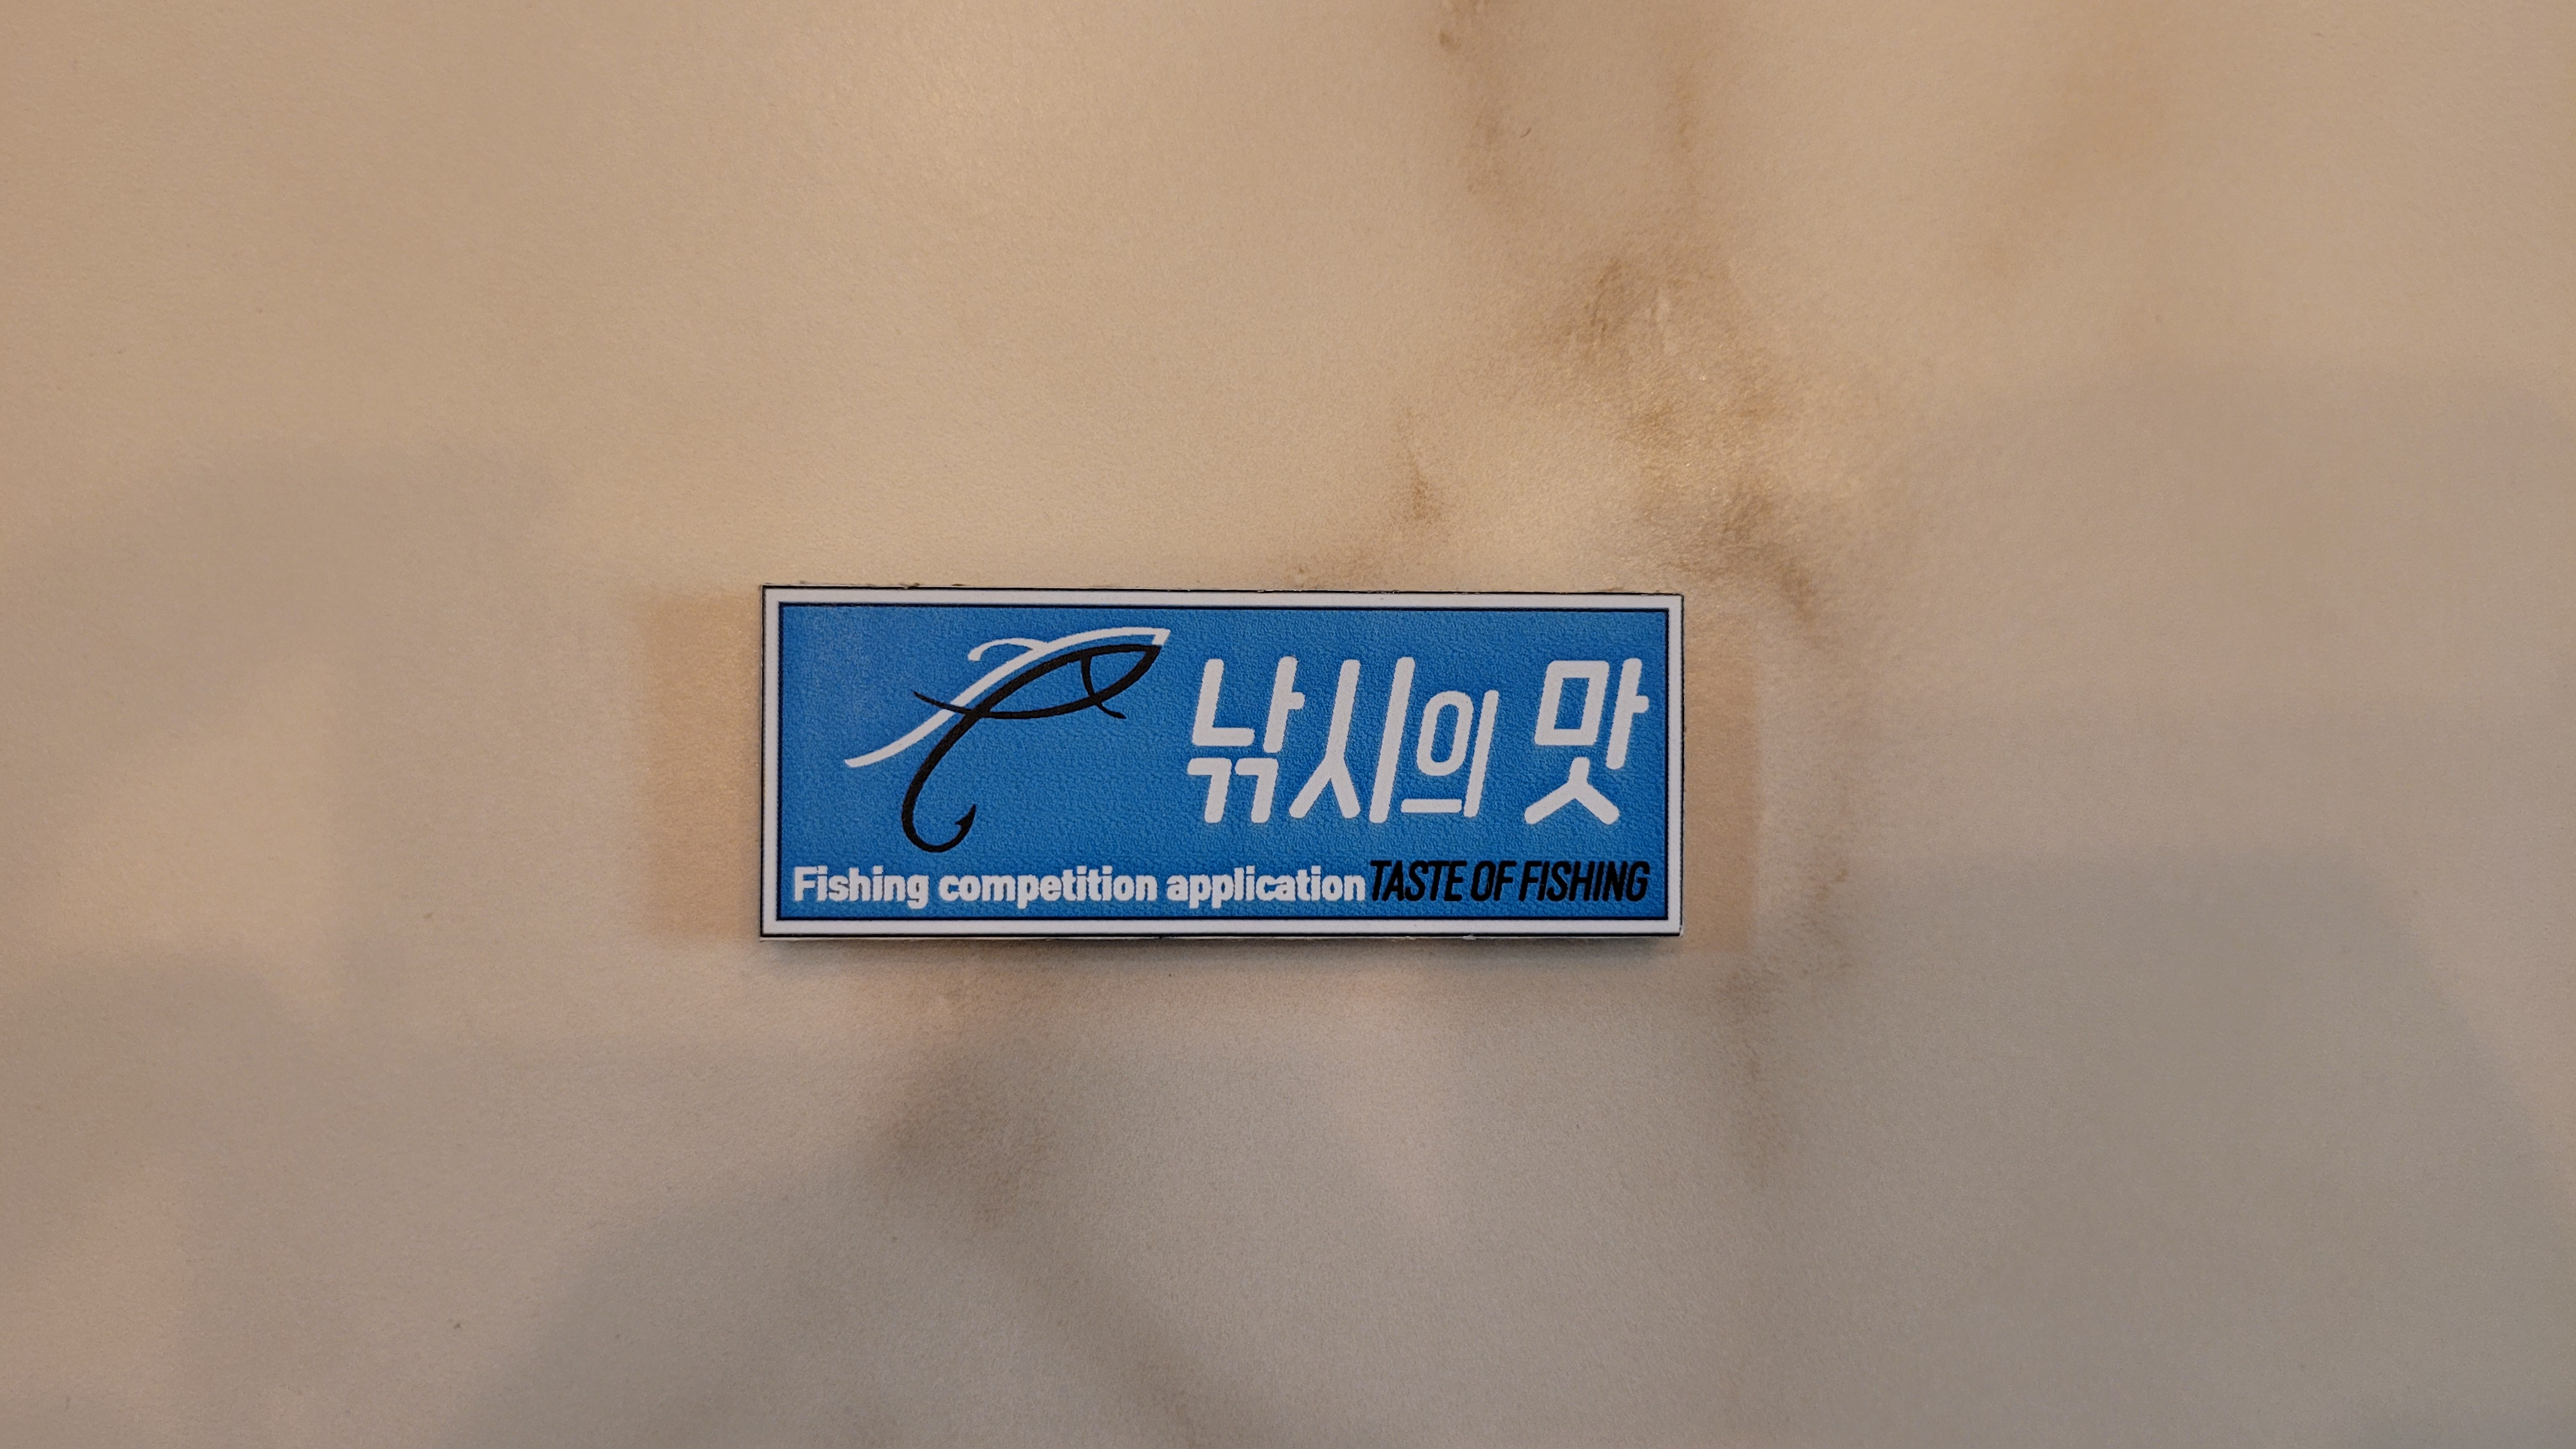tag: (761, 584, 1686, 945)
